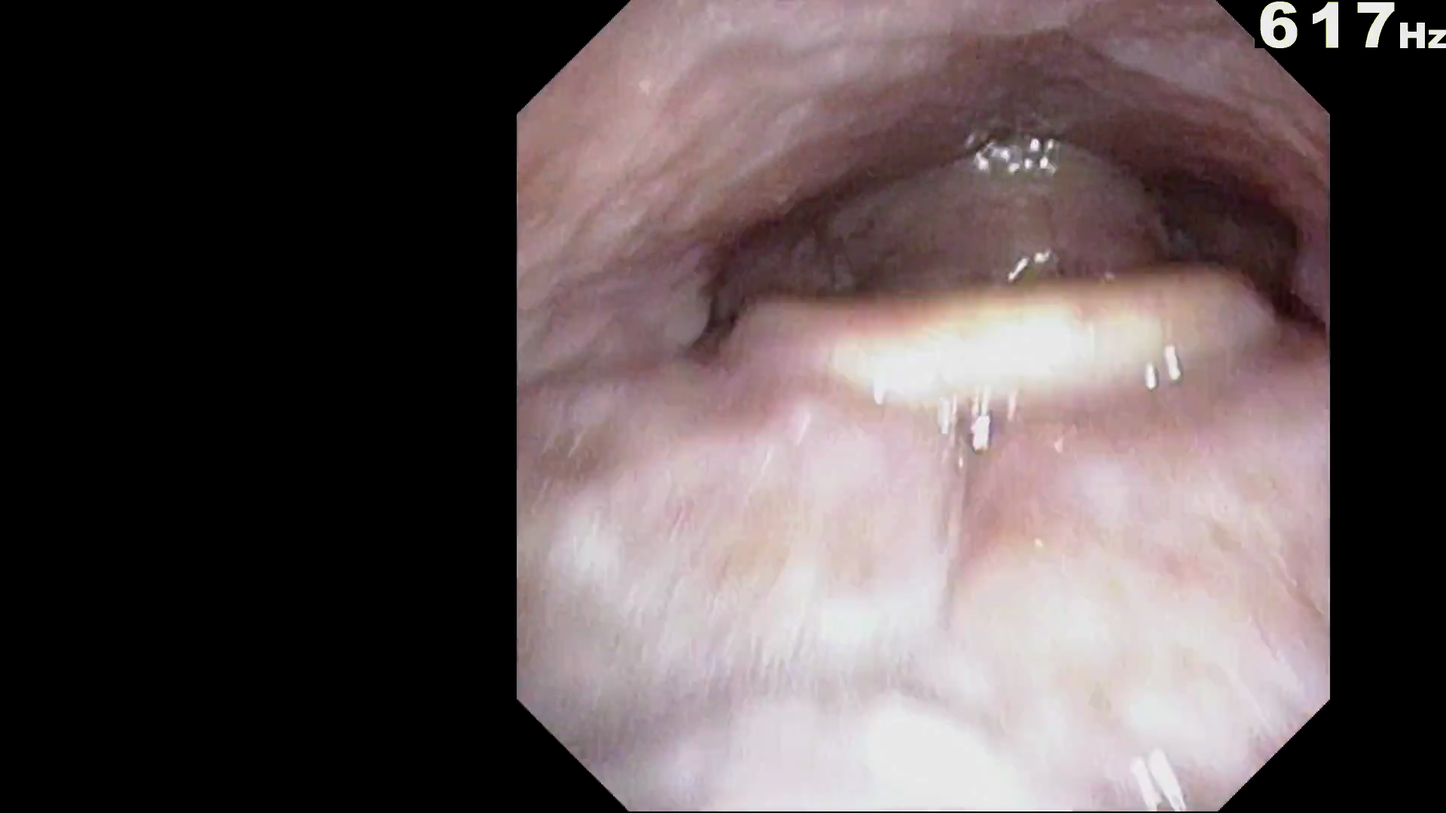epiglottis: (746, 303, 1271, 530)
trachea: (964, 274, 1067, 373)
